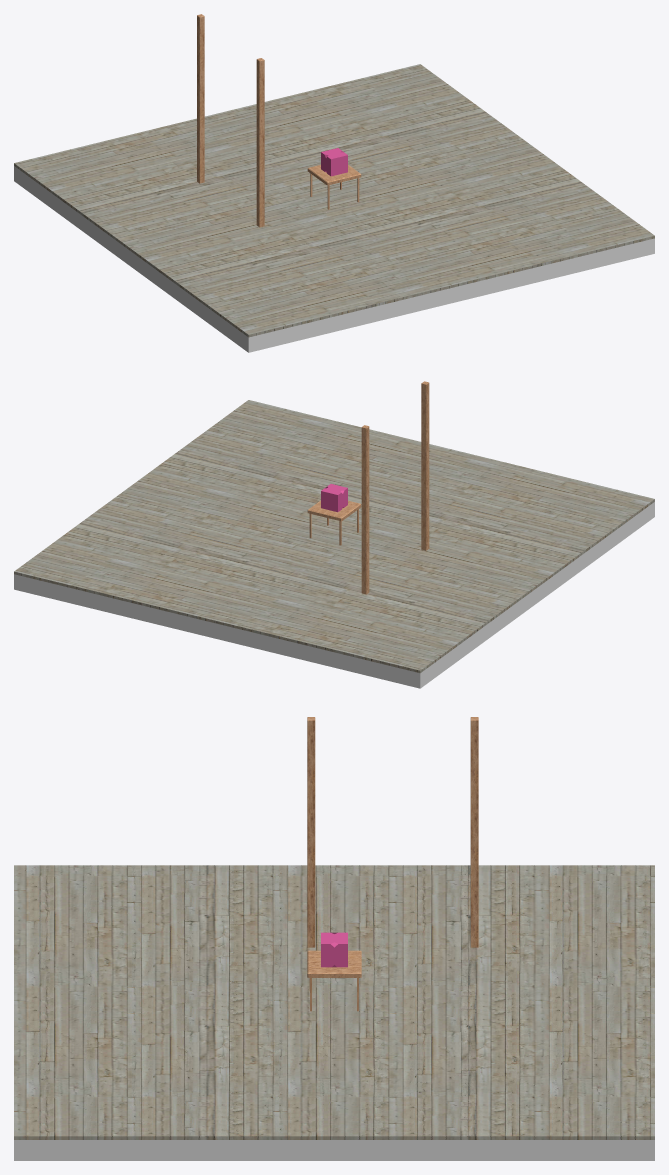
The picture shows the model from 3 angles, top to bottom: view 1: azimuth 30°, elevation 25°; view 2: azimuth 150°, elevation 25°; view 3: azimuth 270°, elevation 25°; orthographic projection. The views are drawn at different scales.
Parts seen in each view (by area): view 1: Floor, Pole, Pole.001, Cube, Tabletop; view 2: Floor, Pole.001, Pole, Cube, Tabletop; view 3: Floor, Pole.001, Pole, Tabletop, Cube.
Boxes of the visible parts, bbox=[...] form: Floor: bbox=[14, 64, 654, 352]; Pole: bbox=[256, 58, 264, 227]; Pole.001: bbox=[197, 14, 204, 183]; Cube: bbox=[321, 148, 347, 176]; Tabletop: bbox=[307, 164, 361, 185]; Floor: bbox=[14, 400, 654, 688]; Pole.001: bbox=[361, 425, 369, 594]; Pole: bbox=[421, 381, 429, 550]; Cube: bbox=[321, 484, 347, 512]; Tabletop: bbox=[307, 500, 361, 521]; Floor: bbox=[14, 865, 654, 1160]; Pole.001: bbox=[470, 717, 478, 947]; Pole: bbox=[307, 717, 315, 947]; Tabletop: bbox=[307, 950, 361, 977]; Cube: bbox=[321, 932, 347, 967].
Size of the model in its own units: 16.58 by 7.19 by 16.58.
Materials: 4 (2 with a texture image).
